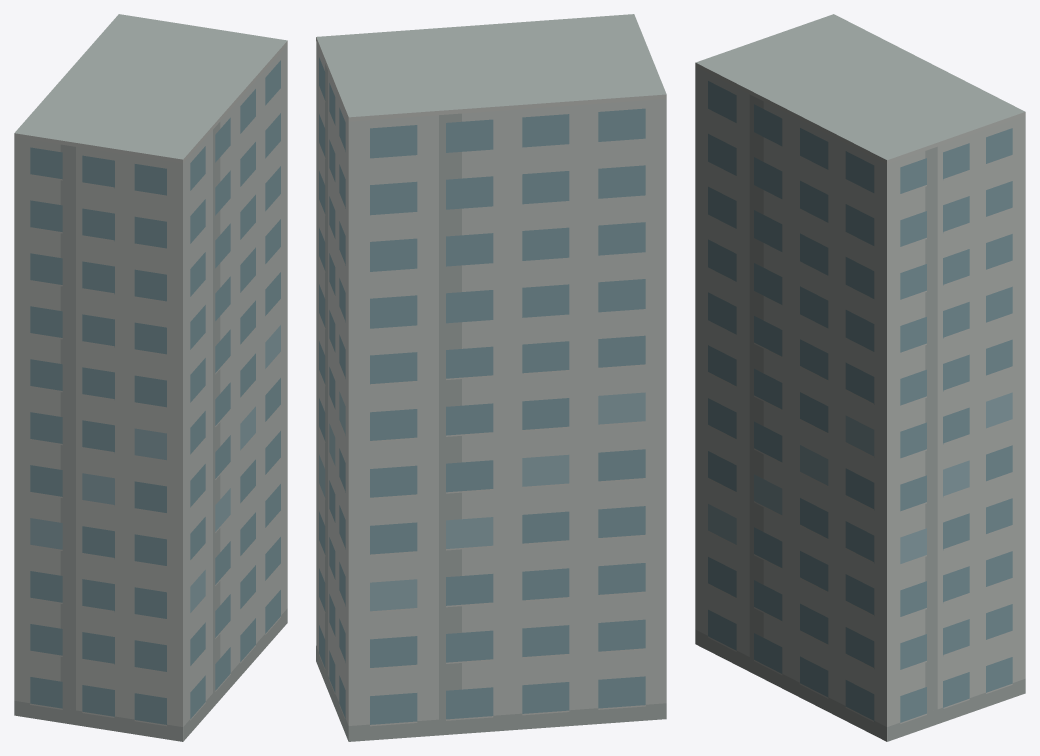
Rendered from residential-624d797b-0c99-4e5c-b53d-f66f6b22a1fd.glb.
The picture shows the model from 3 angles, left to right: view 1: azimuth 30°, elevation 25°; view 2: azimuth 150°, elevation 25°; view 3: azimuth 270°, elevation 25°; orthographic projection. The views are drawn at different scales.
Visible parts, largest first — view 1: residential-624d797b-0c99-4e5c-b53d-f66f6b22a1fd.tmp; view 2: residential-624d797b-0c99-4e5c-b53d-f66f6b22a1fd.tmp; view 3: residential-624d797b-0c99-4e5c-b53d-f66f6b22a1fd.tmp.
Boxes of the visible parts, x1,y1,x2,y2 form: residential-624d797b-0c99-4e5c-b53d-f66f6b22a1fd.tmp: [14, 14, 287, 741]; residential-624d797b-0c99-4e5c-b53d-f66f6b22a1fd.tmp: [316, 14, 666, 741]; residential-624d797b-0c99-4e5c-b53d-f66f6b22a1fd.tmp: [695, 14, 1025, 741].
Size of the model in its own units: 18.89 by 35 by 18.01.
